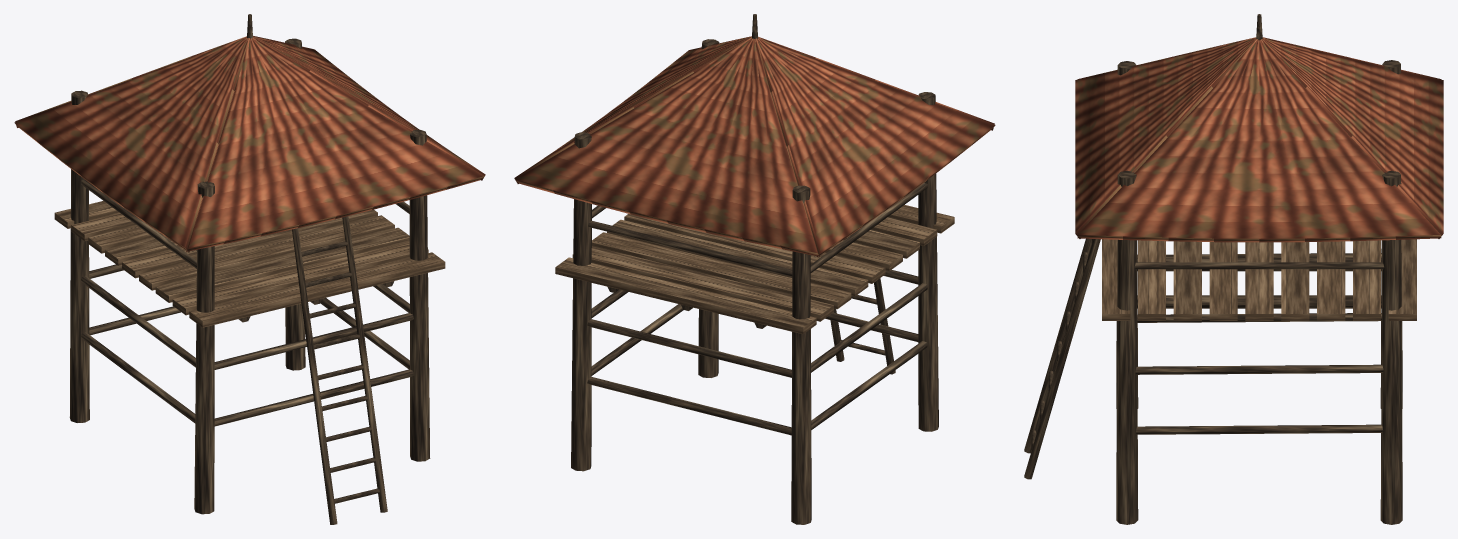
The model's file is piattaforma_guardia_tegole.gltf.
The picture shows the model from 3 angles, left to right: view 1: azimuth 30°, elevation 25°; view 2: azimuth 150°, elevation 25°; view 3: azimuth 270°, elevation 25°; orthographic projection. The views are drawn at different scales.
Visible parts, largest first — view 1: piattaforma_guardia_tegole; view 2: piattaforma_guardia_tegole; view 3: piattaforma_guardia_tegole.
Boxes of the visible parts, bbox=[...] form: piattaforma_guardia_tegole: bbox=[14, 14, 485, 524]; piattaforma_guardia_tegole: bbox=[514, 14, 995, 524]; piattaforma_guardia_tegole: bbox=[1024, 14, 1443, 524].
Bounding box in the file's own units: 3.34 × 4.51 × 3.8.
Materials: 3 (3 with a texture image).
